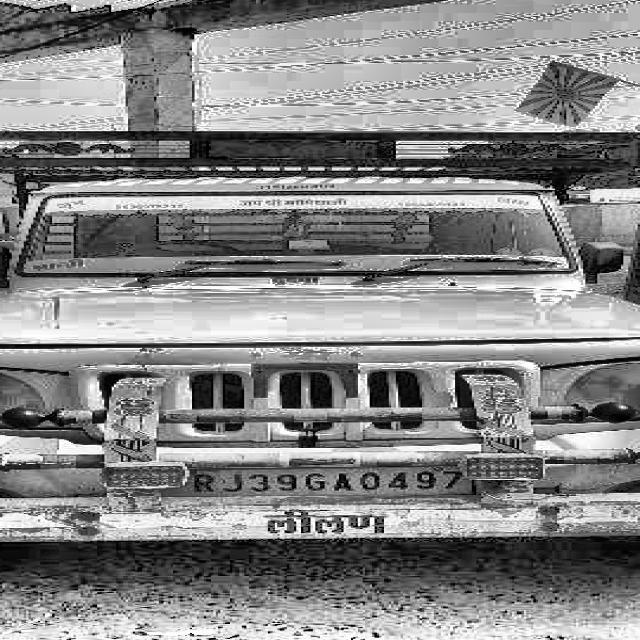light_vehicle: (0, 187, 640, 546)
